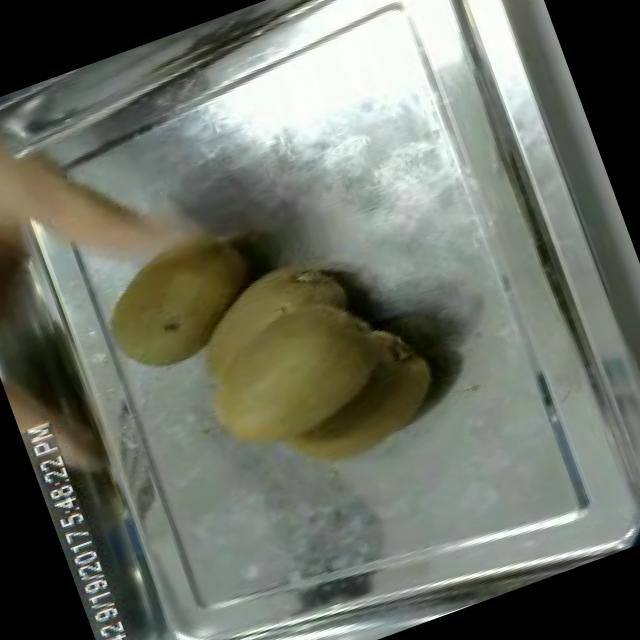Fruit: (156, 214, 462, 506), (80, 210, 288, 392)
